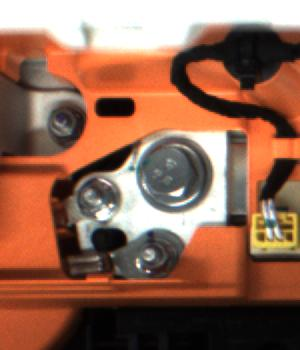nut_b: (132, 130, 217, 215)
